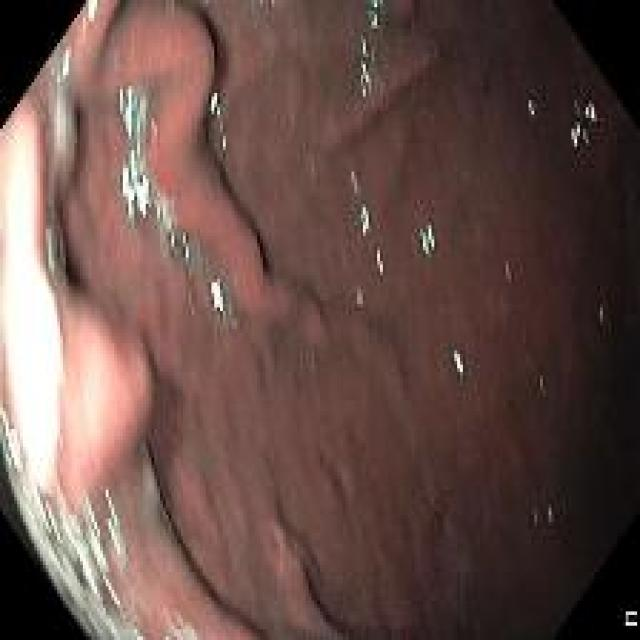blur: (1, 1, 637, 637)
color misalignment: (625, 611, 637, 625)
contrast: (607, 131, 637, 571)
saturation: (1, 106, 63, 502), (64, 333, 115, 460)
specularity: (120, 146, 151, 224), (75, 546, 105, 613), (28, 485, 62, 543), (84, 497, 109, 570), (103, 485, 123, 555), (2, 407, 22, 471), (119, 82, 140, 140), (357, 33, 374, 97), (417, 222, 436, 257), (209, 274, 226, 312), (57, 46, 71, 85), (570, 119, 590, 146), (103, 573, 119, 606), (368, 1, 385, 30), (450, 348, 466, 377), (357, 204, 371, 237), (166, 212, 176, 254), (581, 101, 598, 125), (153, 197, 165, 230), (180, 230, 191, 265), (208, 87, 219, 117), (87, 0, 98, 23), (375, 247, 384, 275), (526, 97, 539, 116), (219, 122, 226, 149), (130, 626, 143, 638), (350, 171, 357, 193), (356, 290, 364, 306), (547, 507, 554, 523)
